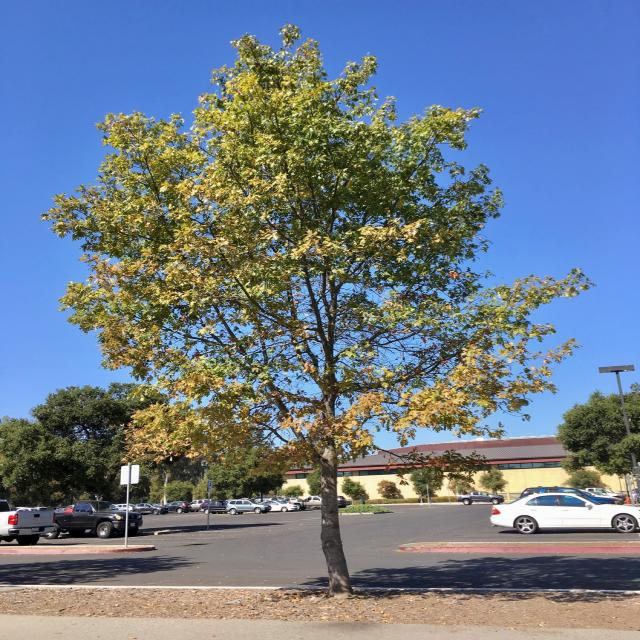Quercus kelloggii: (39, 19, 596, 590)
